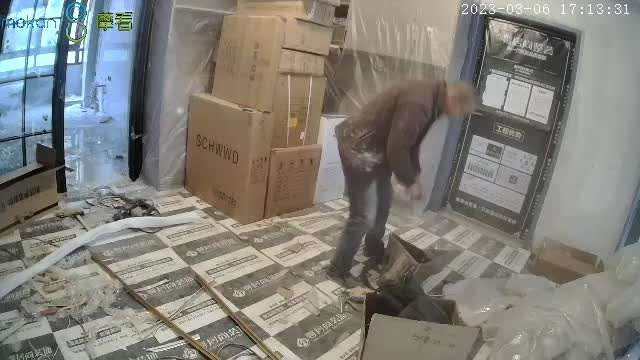people: (334, 76, 476, 285)
window: (1, 1, 154, 188)
